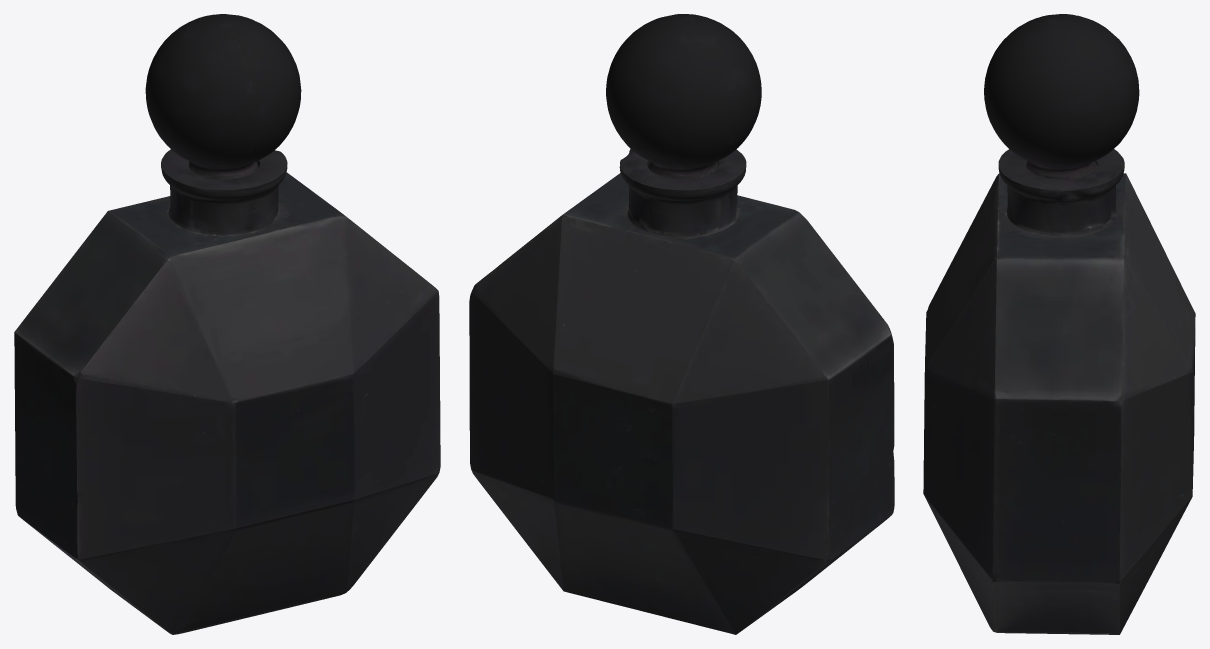
The model's file is noir-facet.glb.
The picture shows the model from 3 angles, left to right: view 1: azimuth 30°, elevation 25°; view 2: azimuth 150°, elevation 25°; view 3: azimuth 270°, elevation 25°; orthographic projection.
Visible parts, largest first — view 1: Object_2; view 2: Object_2; view 3: Object_2.
Part boxes in pixels (<box>): Object_2: <box>14,14,440,634</box>; Object_2: <box>469,14,894,634</box>; Object_2: <box>923,14,1195,634</box>.
Bounding box in the file's own units: 51.26 × 77.03 × 33.33.
Materials: 1 (1 with a texture image).
